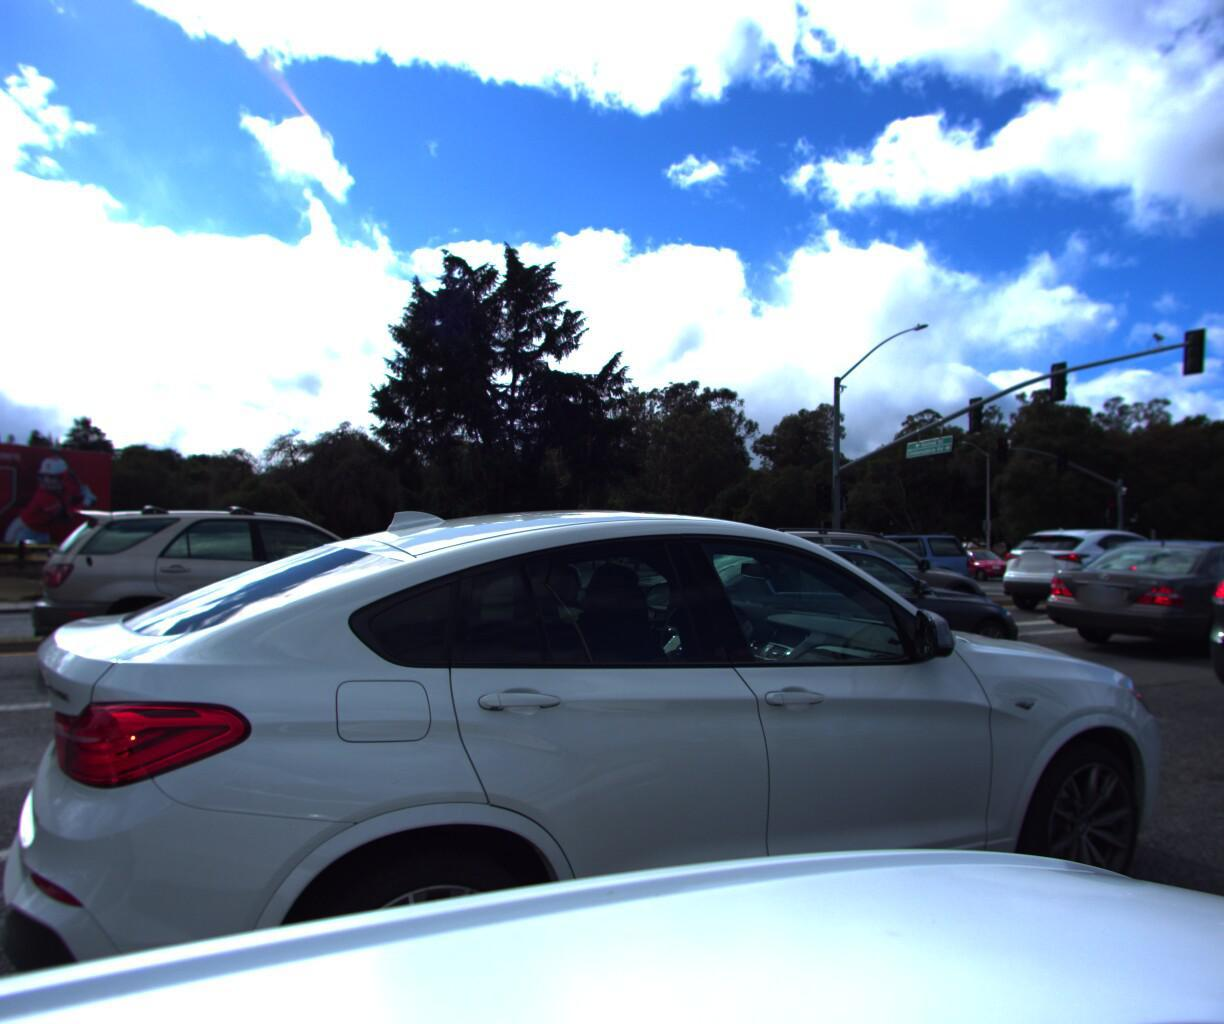car: (0, 475, 1195, 1024), (15, 498, 481, 696), (604, 535, 1030, 720), (697, 523, 997, 650), (1035, 536, 1224, 667), (985, 527, 1215, 623), (382, 532, 586, 612), (792, 532, 986, 603), (1198, 498, 1224, 769), (1106, 532, 1224, 583), (929, 545, 1025, 584), (666, 535, 739, 582), (642, 548, 690, 570)
